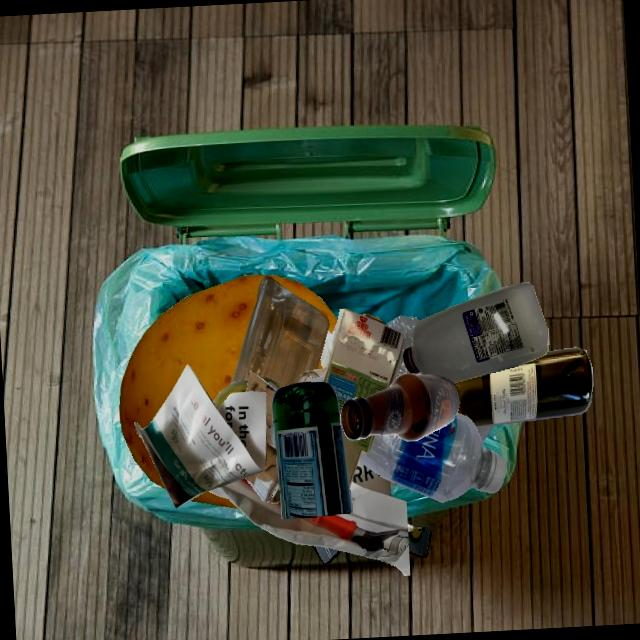biowaste: (119, 275, 338, 489), (218, 366, 321, 496)
cardboard: (323, 308, 405, 421), (245, 371, 279, 503), (320, 309, 346, 368), (476, 426, 492, 442)
glass: (454, 347, 593, 428), (272, 382, 353, 520), (341, 373, 460, 441), (213, 379, 249, 407), (298, 365, 328, 383)
paper: (208, 460, 411, 576), (134, 365, 266, 509)
plastic: (403, 282, 549, 383), (358, 413, 506, 502), (230, 276, 329, 388), (386, 315, 419, 373)
trash: (408, 524, 431, 558), (313, 546, 341, 565)
